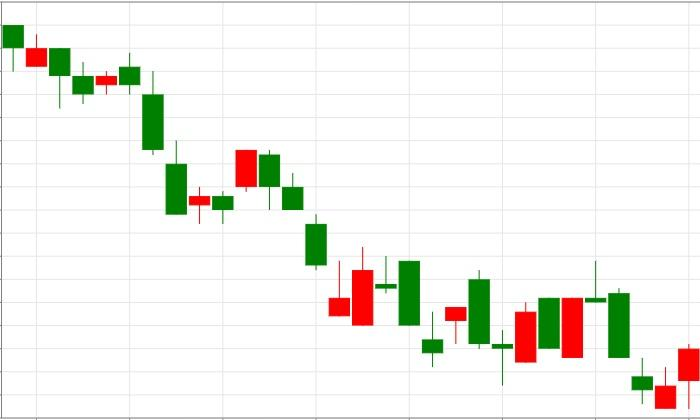evening_star_fall: (491, 260, 631, 386)
three_black_crows_fall: (188, 149, 327, 270)
